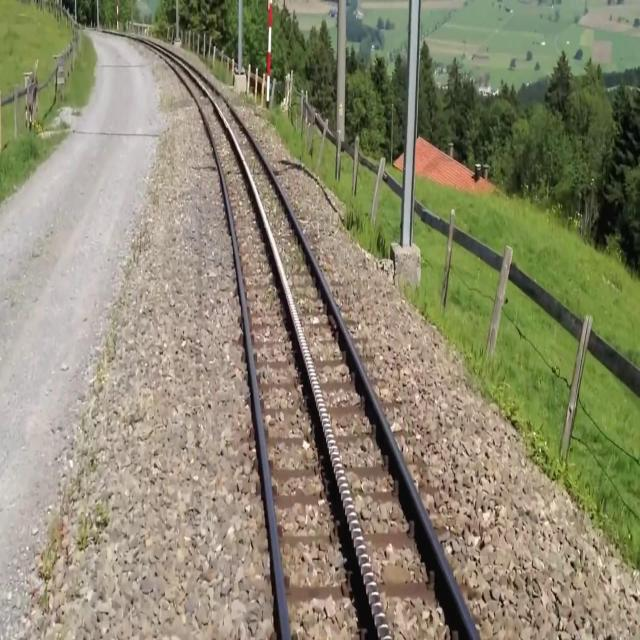rail-track: (93, 29, 475, 639)
